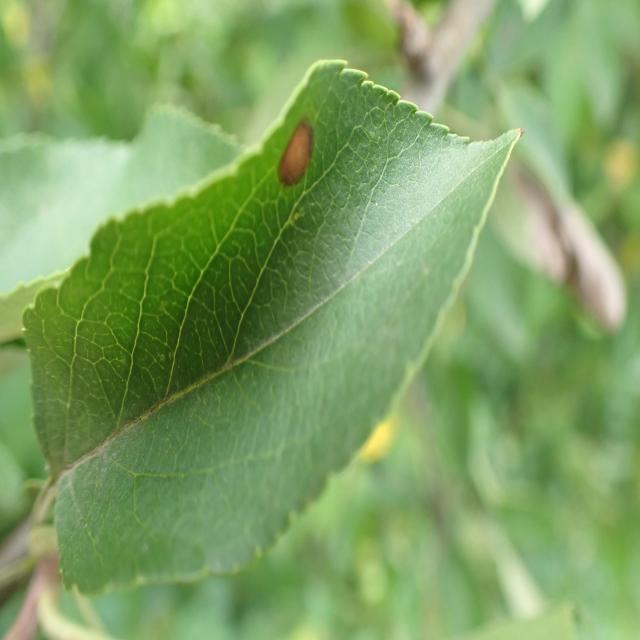Black Rot: (269, 116, 322, 190)
